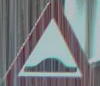Speed Breaker ahead: (5, 4, 89, 79)
